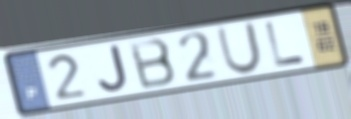2: (176, 30, 220, 85), (46, 53, 90, 102)
B: (125, 36, 179, 92)
J: (96, 42, 130, 95)
L: (263, 20, 308, 69)
U: (214, 20, 265, 77)
